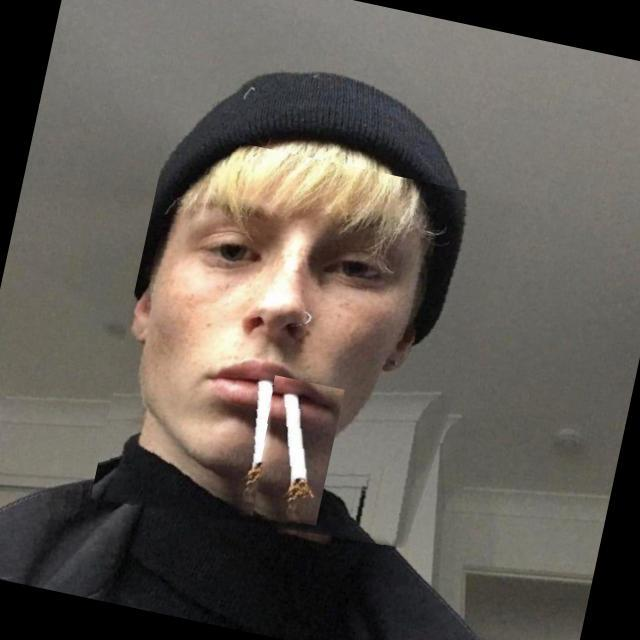cigarette: (245, 375, 344, 528)
